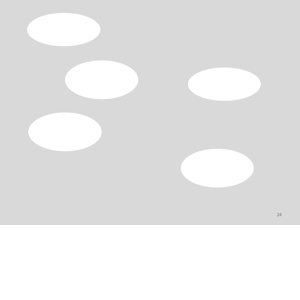round: (23, 107, 105, 154), (61, 57, 142, 103), (176, 145, 257, 190), (184, 64, 265, 103), (22, 10, 105, 48)
